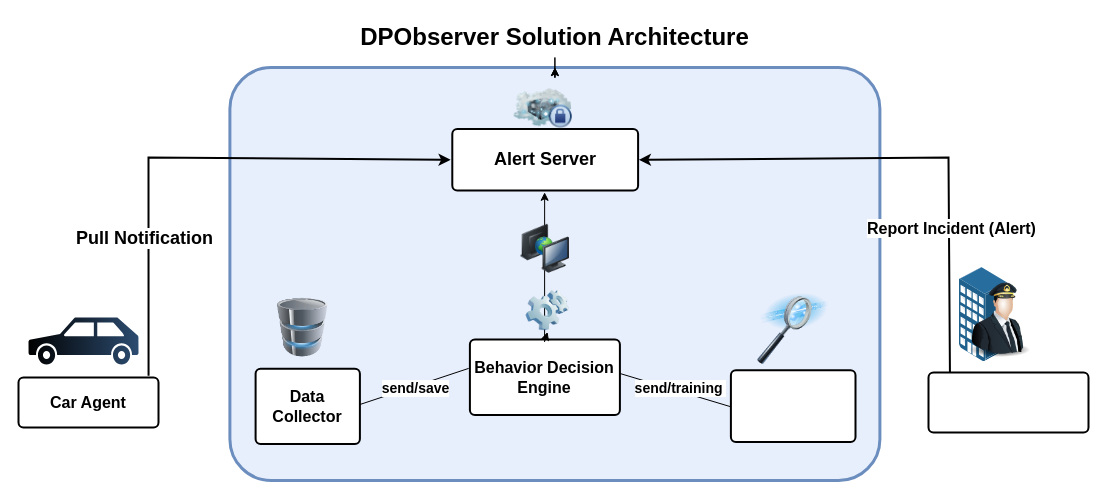
Image size: 1106x499. Some labels were removed from this diagram. The shapes that lost their labels are listed below. From the top down, each one's box as (x1, y1, x2, y2) in pixels, then its label:
(729, 369, 856, 442): AI Model
(927, 371, 1089, 433): Ploce Incident System
